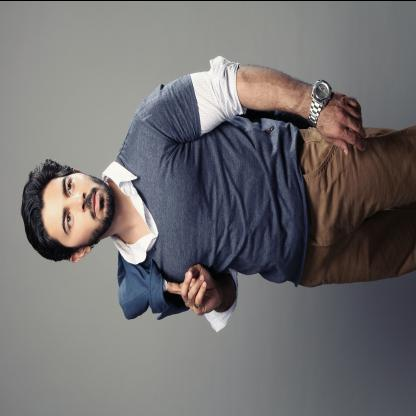Eye: (65, 208, 74, 232), (66, 176, 74, 196)
Mouth: (90, 188, 100, 216)
Nose: (68, 190, 87, 212)
